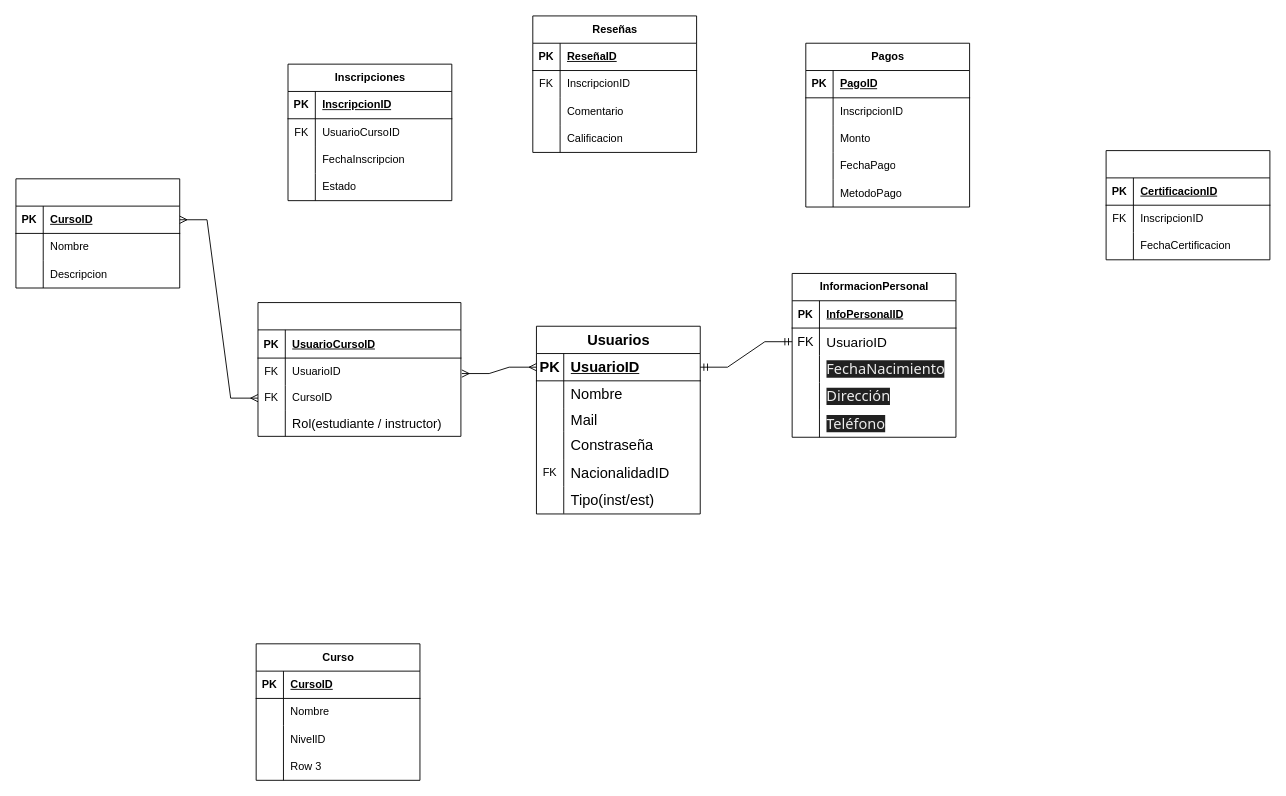
Some shapes in this 1286 by 796 pixel diagram are drawn without their labels. The shapes that lost their labels are listed below. From the top down, each one's box as (x1, y1, x2, y2) in pixels, then its label:
(1105, 150, 1270, 260): Certificaciones
(15, 178, 180, 288): Cursos
(257, 302, 461, 436): UsuariosXCursos
